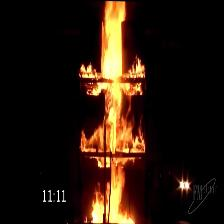fire: (95, 3, 129, 221)
